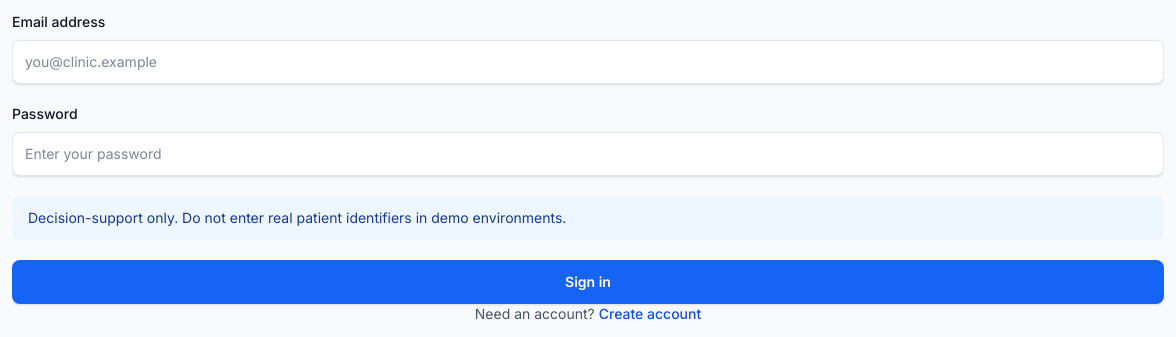
Scenario: LoginForm › shows API message for invalid credentials (401), not email_not_verified copy
Type "user@example.com" into the field labelled "Email address" at (588, 62), box left=12, top=40, right=1164, bottom=84
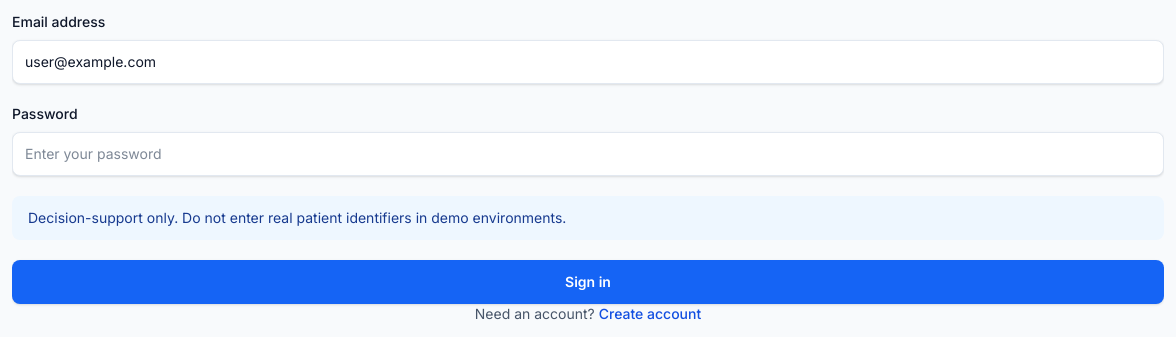
Type "securepass123" into the password field labelled "Password" at (588, 154), box left=12, top=132, right=1164, bottom=176
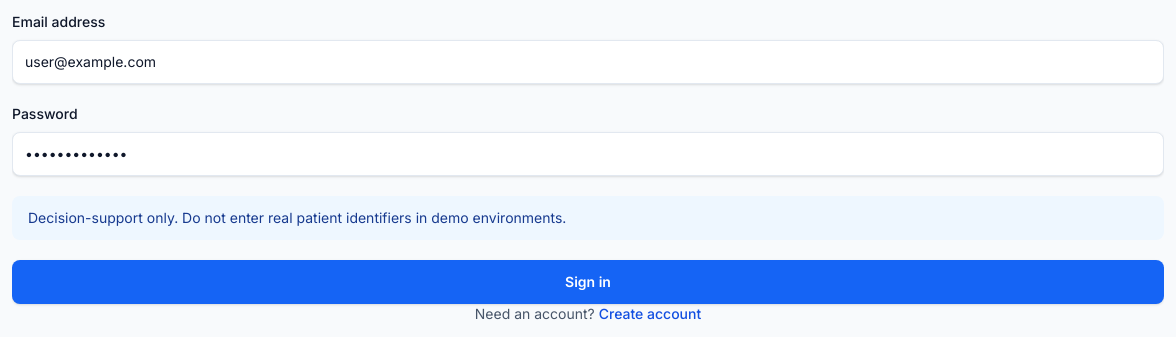
Click the button "Sign in" at (588, 282), box left=12, top=260, right=1164, bottom=304
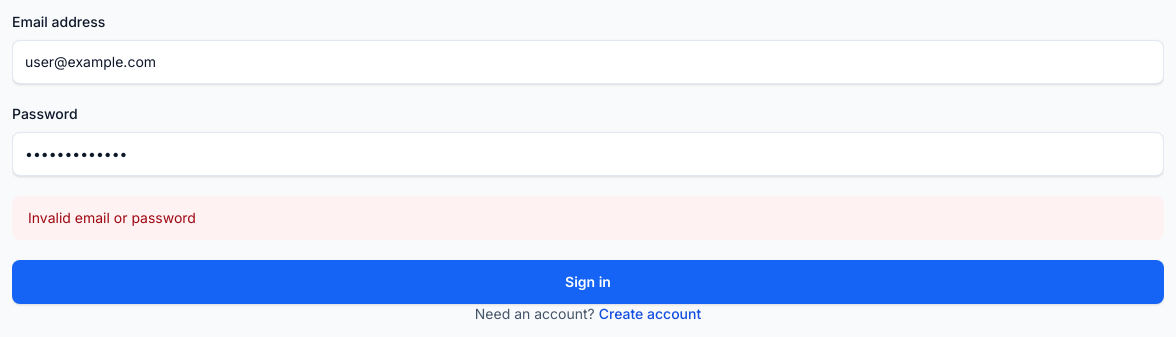
Check: the message reads "Invalid email or password", box left=28, top=209, right=196, bottom=226
